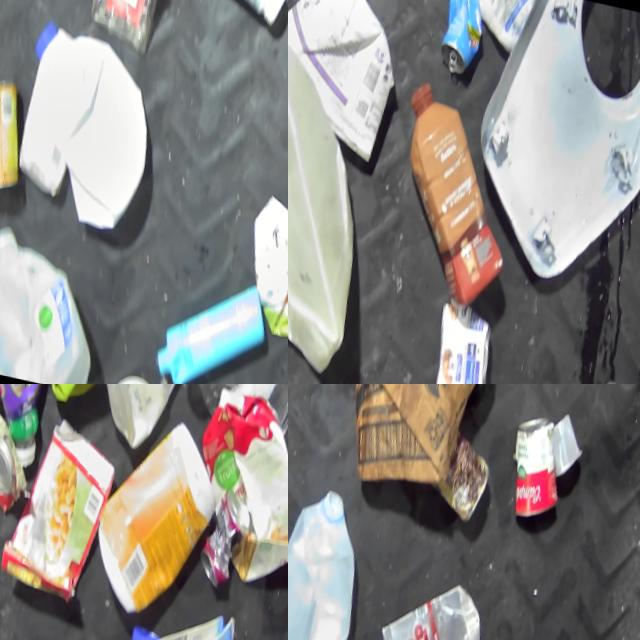can: (492, 394, 573, 528), (188, 474, 251, 583), (433, 0, 494, 88), (0, 399, 28, 507), (0, 73, 25, 190)
milk_jug: (288, 0, 394, 383), (0, 11, 162, 232), (0, 213, 101, 384), (288, 475, 367, 640), (82, 384, 236, 456), (445, 0, 542, 47)
non_white_jug: (372, 73, 527, 309), (82, 403, 225, 614)
